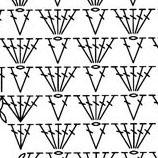enseble_chain: (10, 90, 47, 128), (50, 61, 87, 98), (50, 4, 85, 41), (106, 115, 139, 154), (125, 117, 158, 154), (90, 34, 124, 69), (51, 119, 85, 154), (15, 34, 48, 70), (126, 61, 158, 97), (91, 91, 123, 127), (126, 4, 158, 39), (34, 116, 64, 152), (69, 89, 99, 125), (70, 32, 99, 68), (108, 62, 137, 96), (87, 64, 116, 97), (12, 64, 40, 97), (35, 62, 62, 96), (126, 93, 154, 125), (36, 5, 62, 39), (87, 122, 115, 153), (12, 8, 39, 40), (87, 7, 114, 39), (0, 35, 24, 69), (126, 36, 152, 67), (51, 36, 77, 67), (41, 35, 66, 67), (52, 93, 77, 124), (79, 6, 101, 36), (13, 123, 29, 149)
fan: (0, 35, 24, 68), (78, 35, 101, 66), (79, 91, 101, 122), (12, 95, 27, 121)
